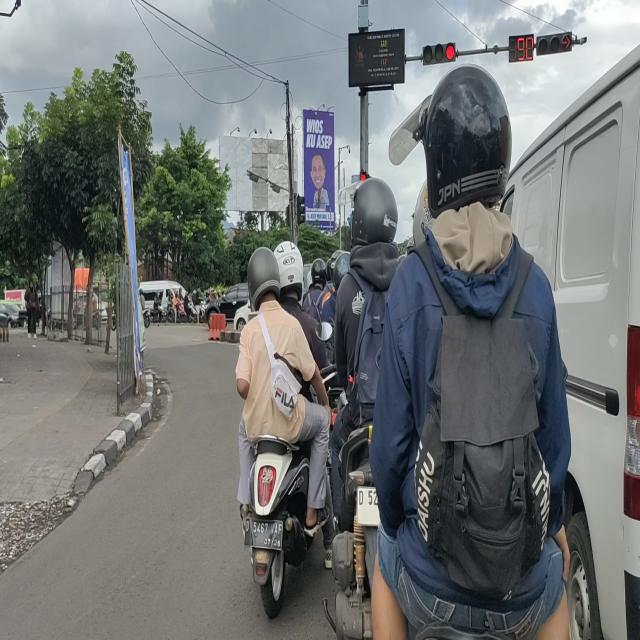helmet: (426, 63, 512, 210), (351, 179, 400, 256), (246, 247, 280, 312), (274, 239, 302, 301), (332, 250, 350, 296), (311, 252, 328, 290)
